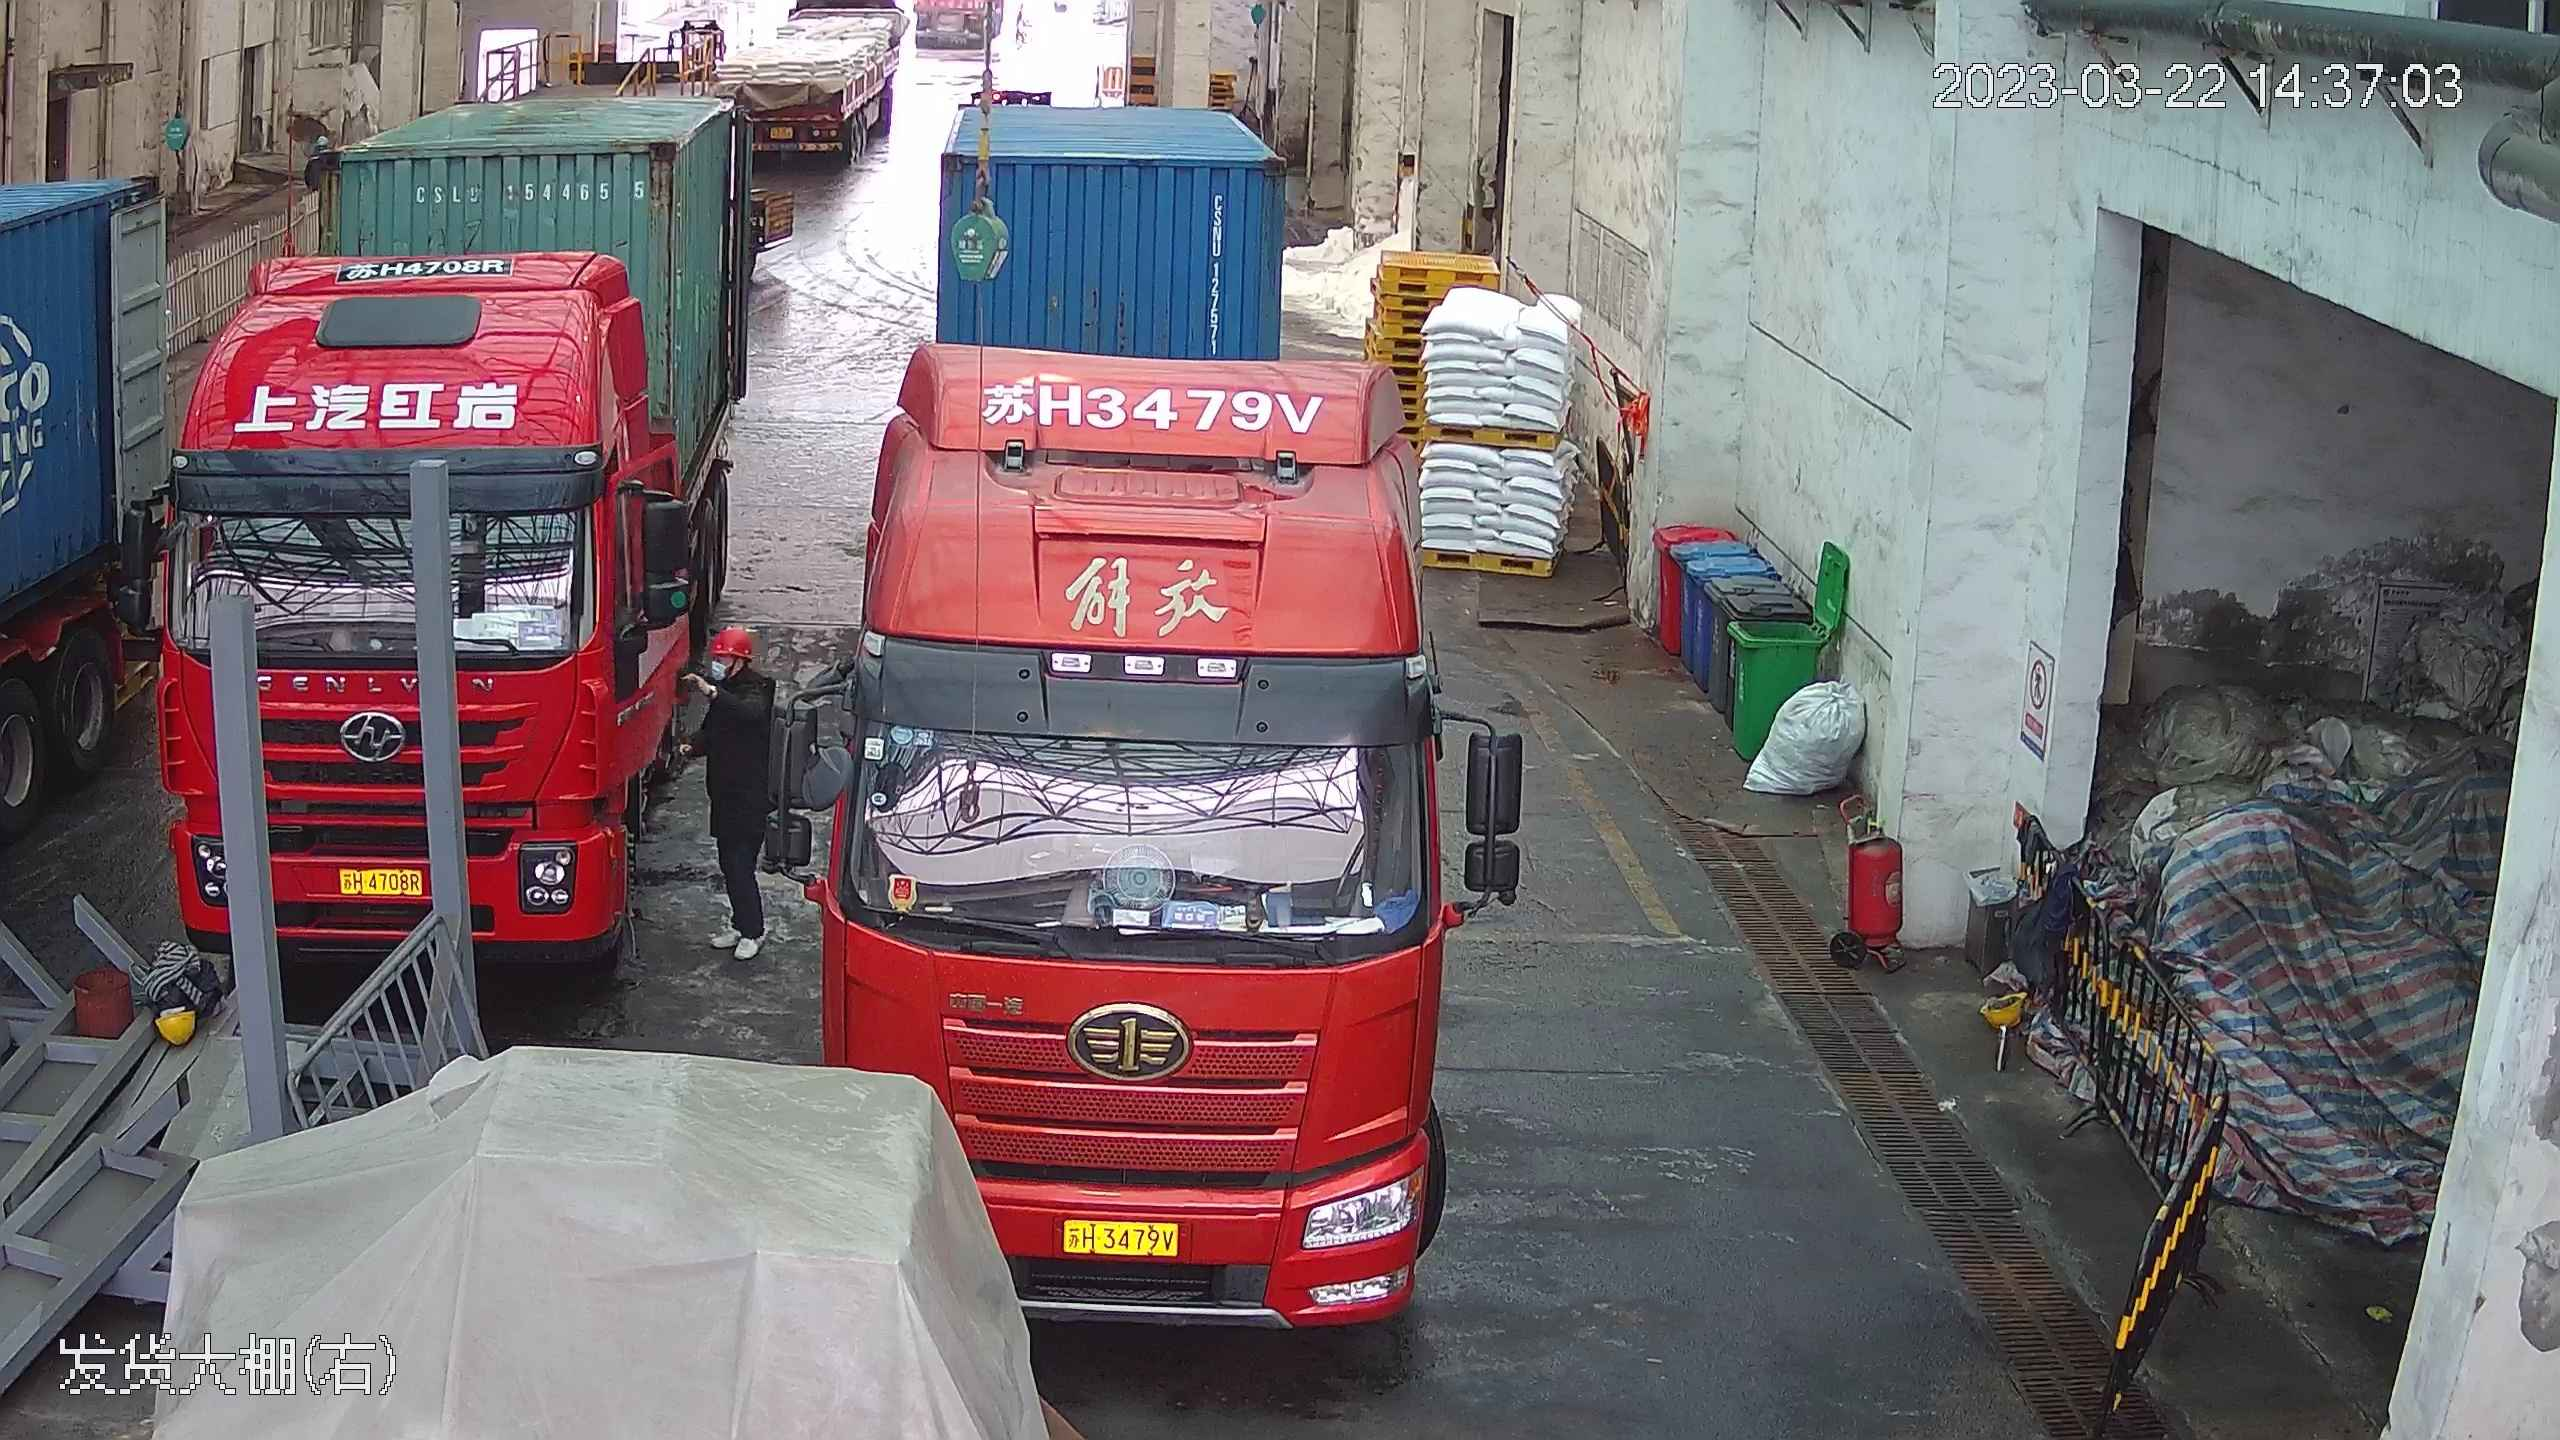head: (694, 623, 777, 722)
helmet: (708, 622, 756, 659)
people: (673, 618, 786, 953)
truck: (819, 41, 1471, 1314), (151, 45, 773, 962), (1, 176, 327, 819), (724, 4, 905, 172)
